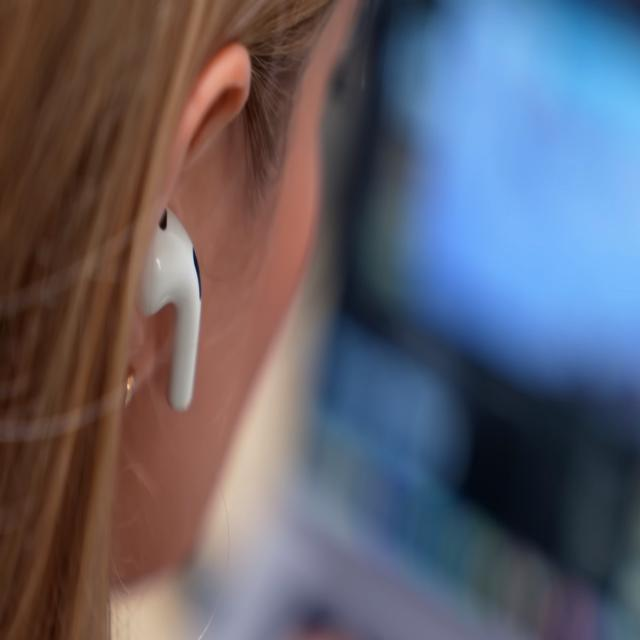airpods: (138, 198, 206, 416)
